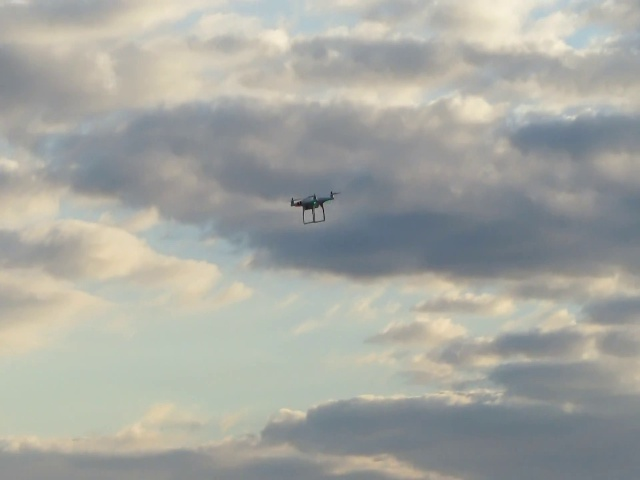drone: (284, 190, 341, 227)
